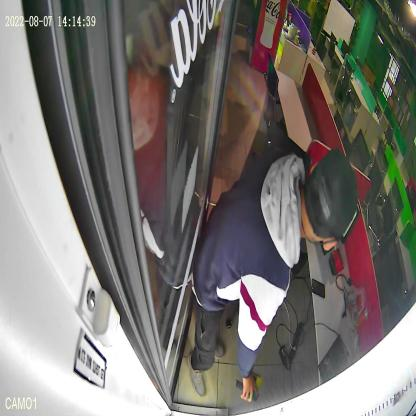green: (236, 380, 260, 402)
yellow: (245, 368, 262, 391)
